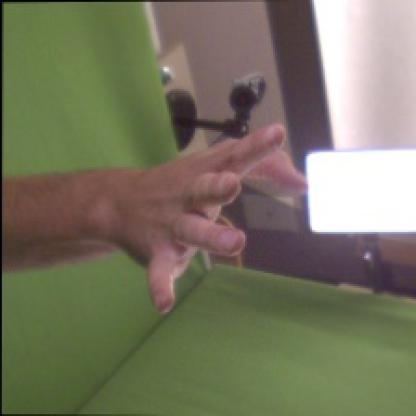Hand: (118, 125, 310, 318)
